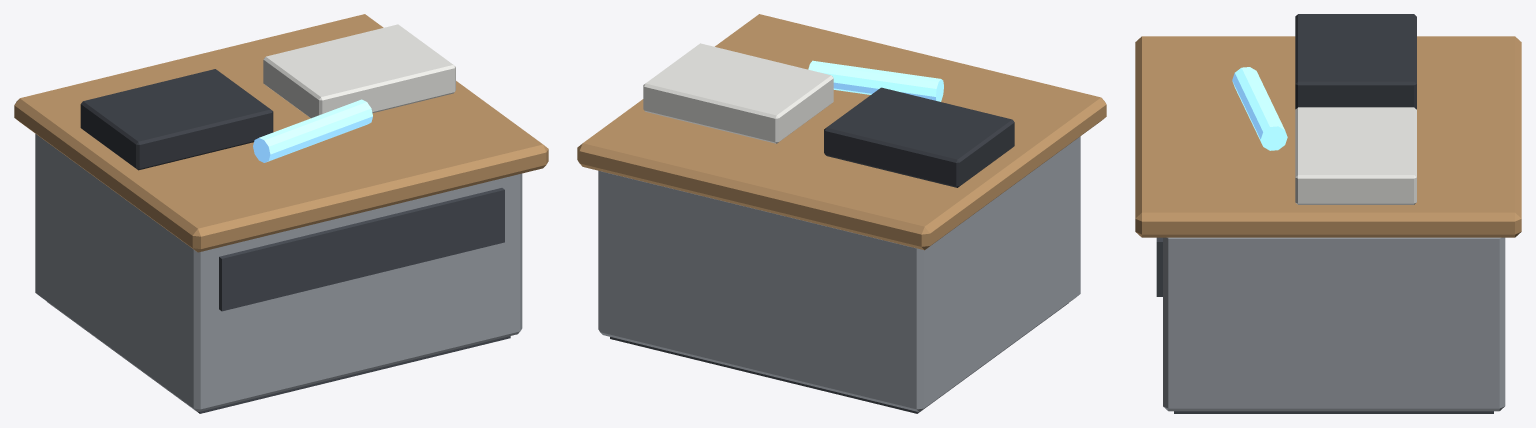
File: delegation_p1_3.glb
The picture shows the model from 3 angles, left to right: view 1: azimuth 30°, elevation 25°; view 2: azimuth 150°, elevation 25°; view 3: azimuth 270°, elevation 25°; orthographic projection. The views are drawn at different scales.
Visible parts, largest first — view 1: delegation_p1_3_mesh_Desk, delegation_p1_3_mesh; view 2: delegation_p1_3_mesh_Desk, delegation_p1_3_mesh; view 3: delegation_p1_3_mesh_Desk, delegation_p1_3_mesh.
Part boxes in pixels (x1,y1,x2,y2): delegation_p1_3_mesh_Desk: (14,14,548,413); delegation_p1_3_mesh: (80,24,455,170); delegation_p1_3_mesh_Desk: (577,14,1106,413); delegation_p1_3_mesh: (643,43,1014,187); delegation_p1_3_mesh_Desk: (1135,36,1521,413); delegation_p1_3_mesh: (1232,14,1416,204).
Bounding box in the file's own units: 0.78 × 0.48 × 0.7.
